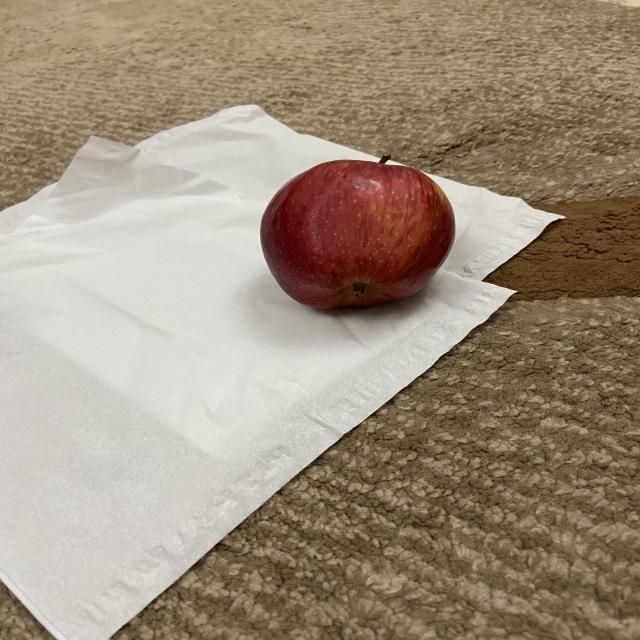apple: (252, 146, 458, 314)
